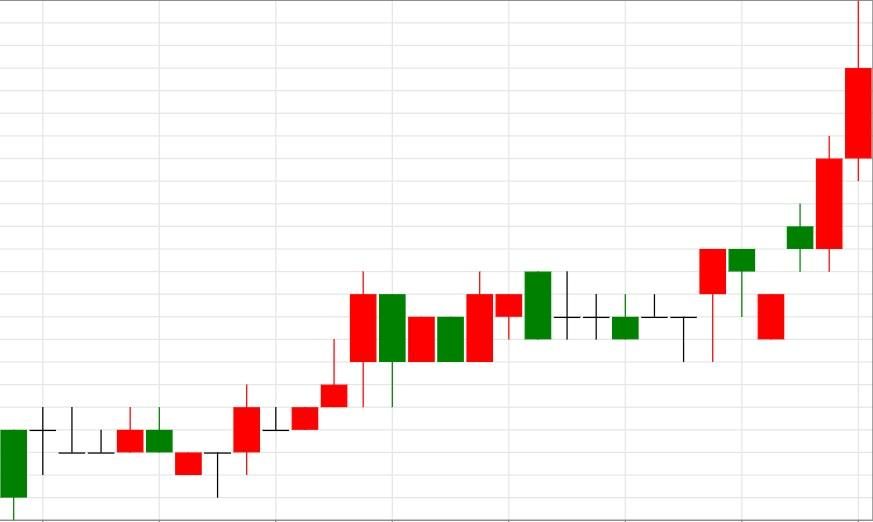bearish_engulfing_fall: (349, 271, 552, 407)
hanging_man_fall: (670, 248, 755, 363)
